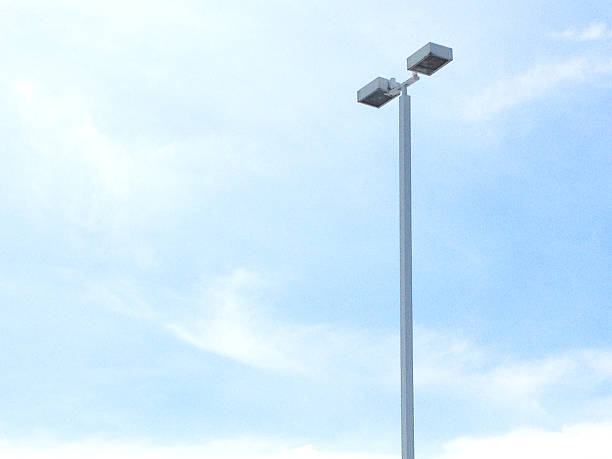light_pole: (396, 97, 419, 459)
